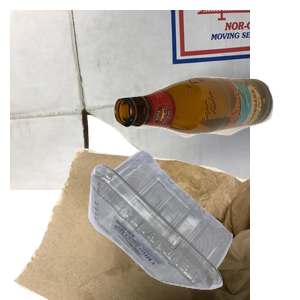cardboard: (10, 10, 250, 190)
glass: (111, 74, 300, 204)
plastic: (86, 147, 300, 300)
trash: (10, 120, 250, 300)
